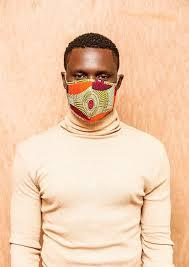Wearing Mask: (58, 31, 125, 127)
